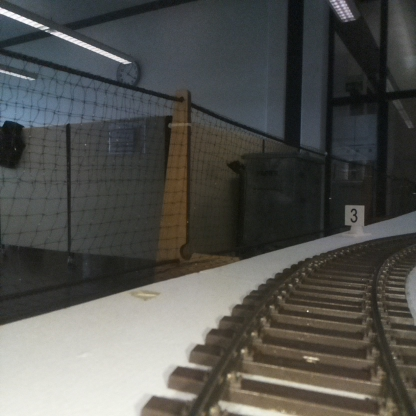white-stop-3: (345, 205, 364, 235)
